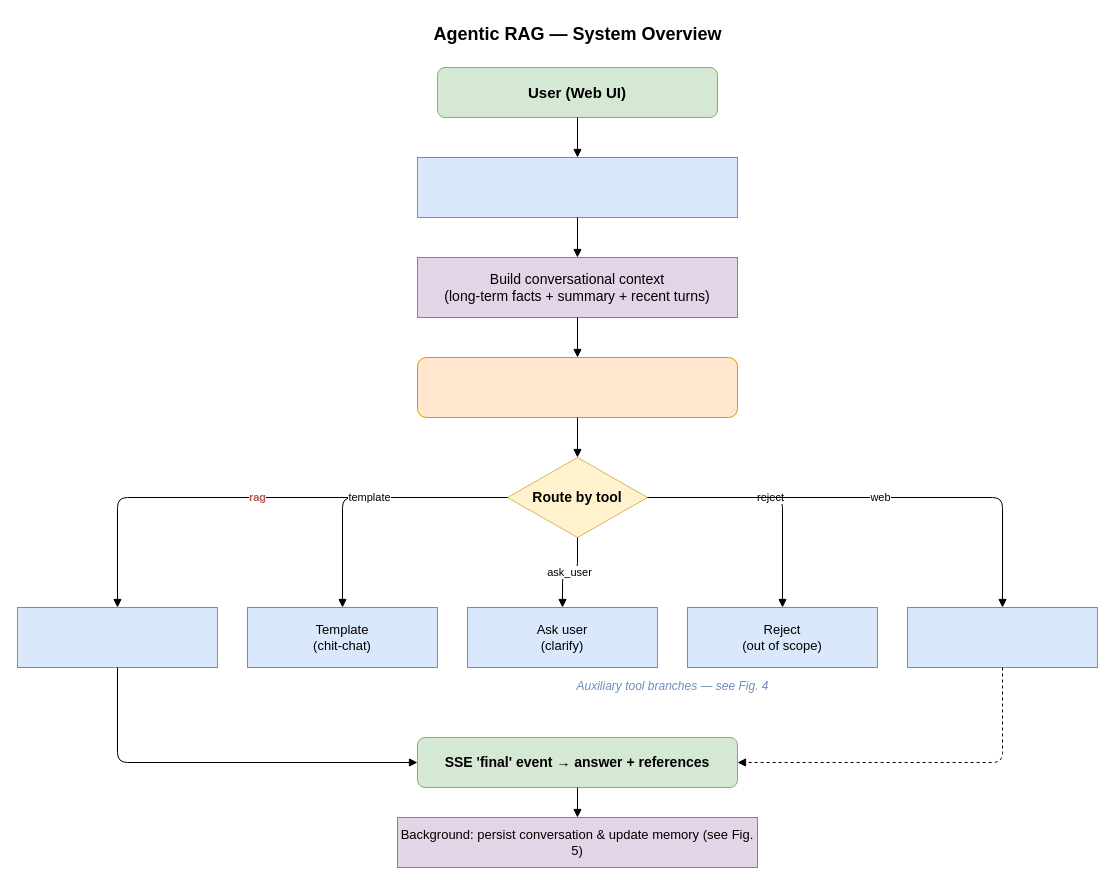
Some shapes in this 1115 by 885 pixel diagram are drawn without their labels. The shapes that lost their labels are listed below. From the top down, each one's centre as x and y in pixels, then its label:
At [577,187]: "API: POST /api/chat/chatbot-agentic (returns an SSE event stream)".
At [577,387]: "Planner Agent (single LLM call) intent · tool · rewritten query · entities".
At [117,637]: "Legal RAG pipeline (see Fig. 3)".
At [1002,637]: "Web search (Tavily)".
